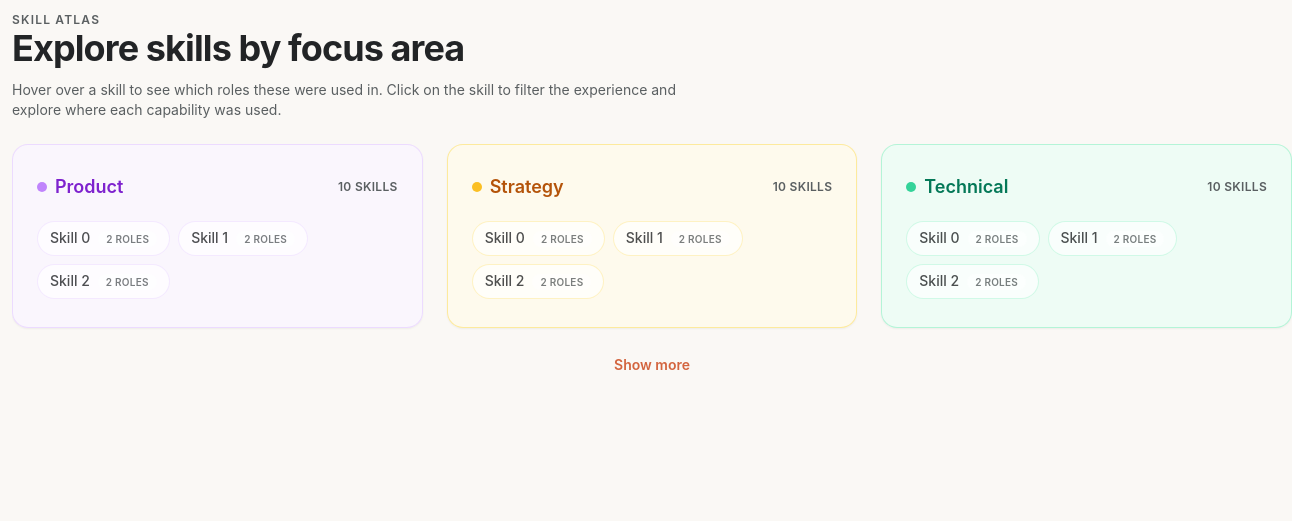
SkillAtlas › Show More/Less Toggle › toggles to "Show less" when clicked
Click the button "Show more" at (652, 365), box [614,355,690,375]
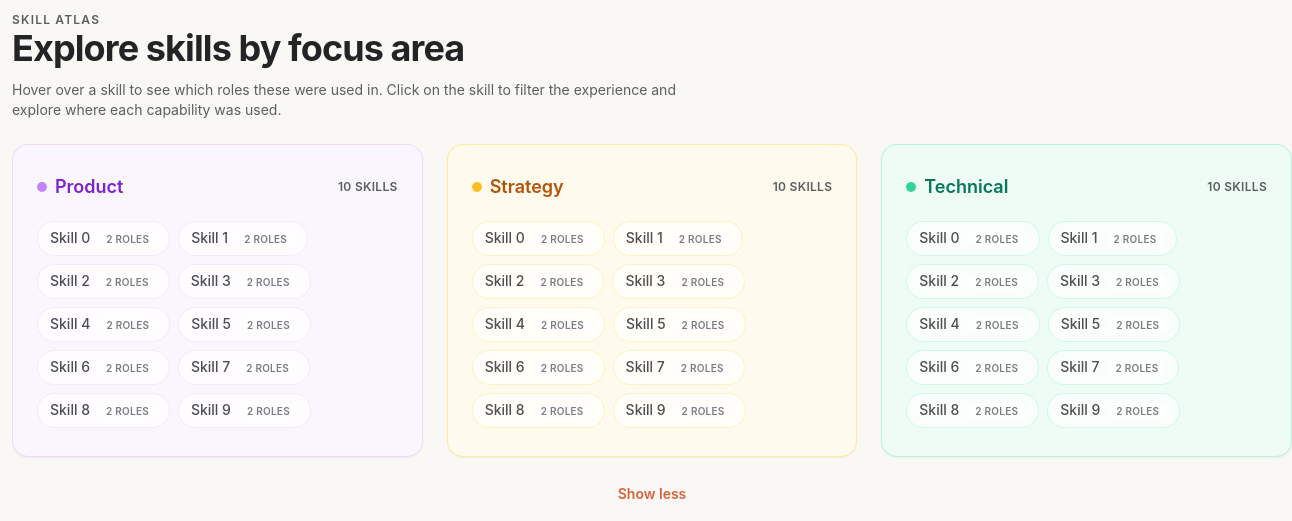
Expected: the button "Show less" is shown, [618,484,686,504]
